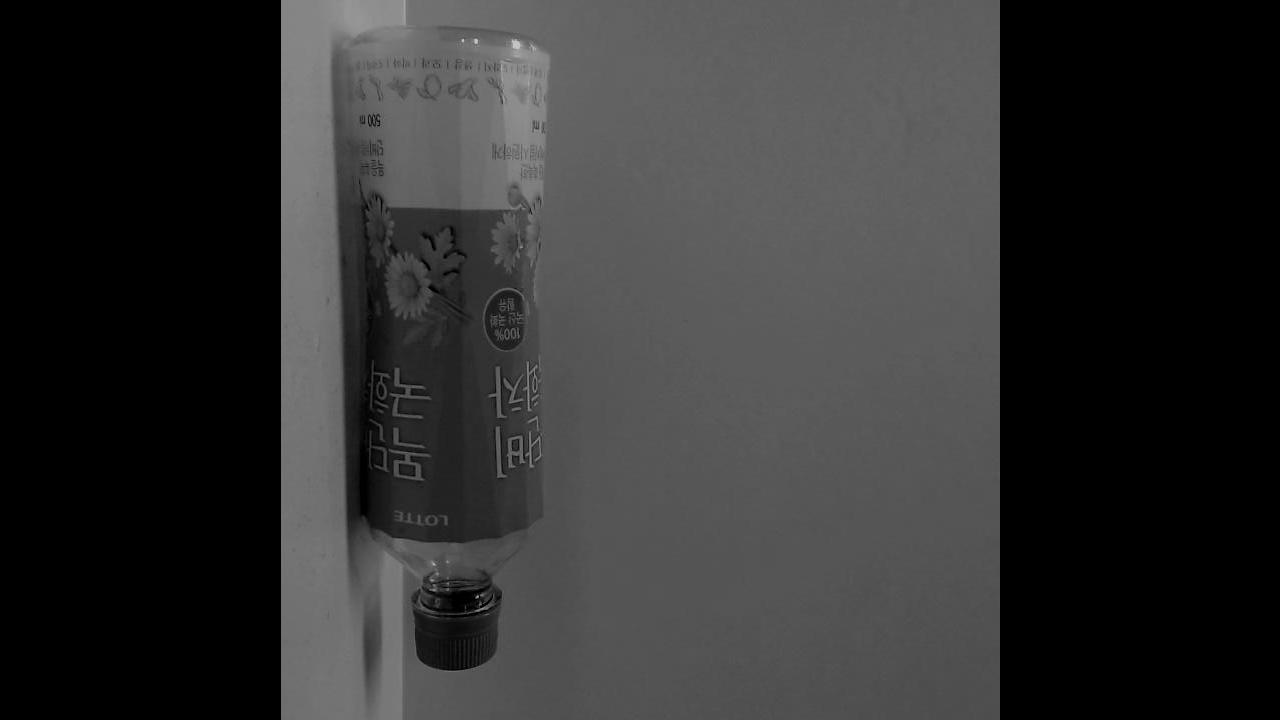bottle: (330, 0, 584, 703)
